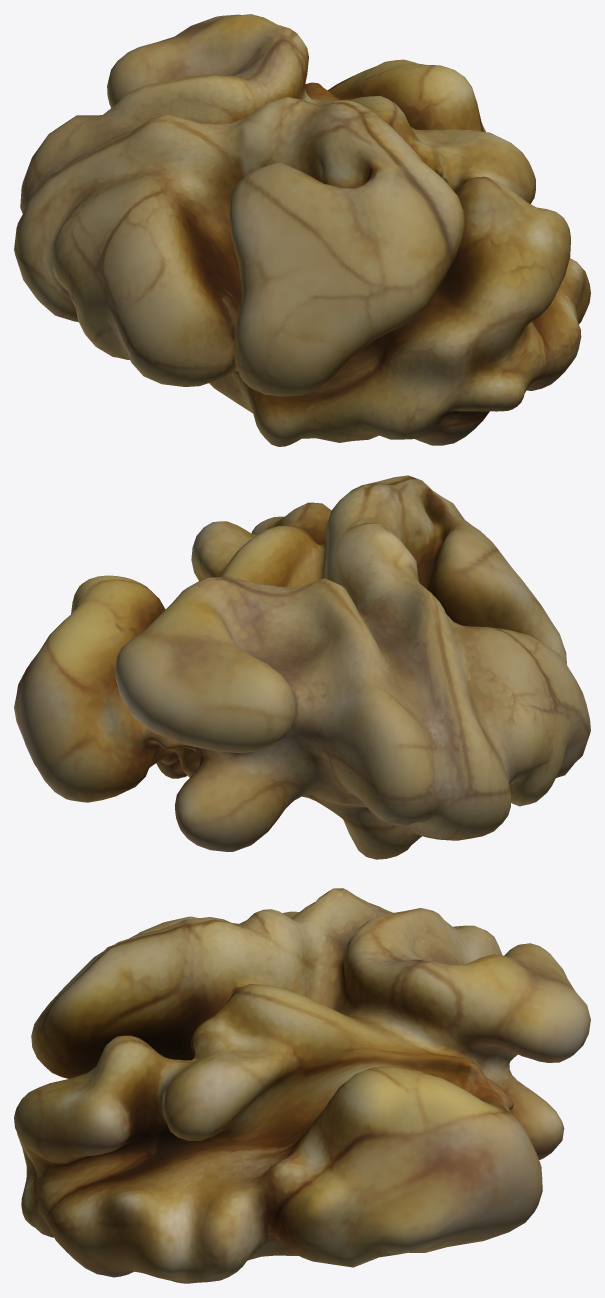
File: nueces.fbx
3 renders of one model, top to bottom at view 1: azimuth 30°, elevation 25°; view 2: azimuth 150°, elevation 25°; view 3: azimuth 270°, elevation 25°, orthographic. The views are drawn at different scales.
Visible parts, largest first — view 1: Remesh; view 2: Remesh; view 3: Remesh.
Part boxes in pixels (x1,y1,x2,y2): Remesh: (14, 14, 590, 446); Remesh: (14, 475, 590, 859); Remesh: (14, 888, 590, 1283).
Size of the model in its own units: 70.11 by 45.57 by 73.63.
1 material, 1 textured.
